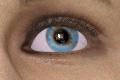eye: (46, 27, 79, 51)
